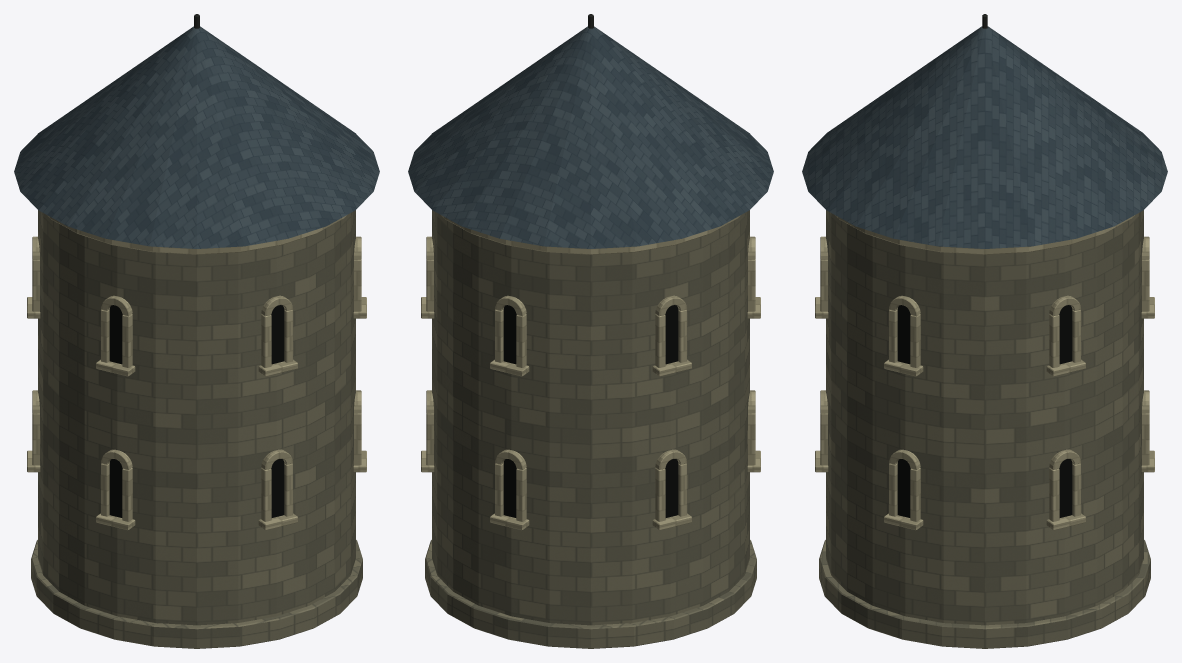
File: round-tower-DWr3RJqf.glb
The picture shows the model from 3 angles, left to right: view 1: azimuth 30°, elevation 25°; view 2: azimuth 150°, elevation 25°; view 3: azimuth 270°, elevation 25°; orthographic projection.
Parts seen in each view (by area): view 1: round-tower__SW_stone, round-tower__SW_slate, round-tower__SW_limestone, round-tower__SW_dark; view 2: round-tower__SW_stone, round-tower__SW_slate, round-tower__SW_limestone, round-tower__SW_dark; view 3: round-tower__SW_stone, round-tower__SW_slate, round-tower__SW_limestone, round-tower__SW_dark.
Boxes of the visible parts, x1,y1,x2,y2 form: round-tower__SW_stone: (31, 210, 362, 648); round-tower__SW_slate: (14, 26, 379, 248); round-tower__SW_limestone: (27, 215, 366, 530); round-tower__SW_dark: (109, 305, 284, 517); round-tower__SW_stone: (425, 210, 756, 648); round-tower__SW_slate: (408, 26, 773, 248); round-tower__SW_limestone: (421, 215, 760, 530); round-tower__SW_dark: (503, 305, 678, 517); round-tower__SW_stone: (819, 210, 1150, 648); round-tower__SW_slate: (802, 26, 1167, 248); round-tower__SW_limestone: (815, 215, 1154, 530); round-tower__SW_dark: (897, 305, 1072, 517).
Bounding box in the file's own units: 6.9 × 11.74 × 6.9.
5 materials, 5 textured.
